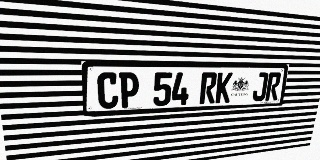4: (171, 72, 190, 105)
5: (153, 72, 172, 106)
C: (97, 72, 118, 109)
J: (252, 72, 269, 101)
K: (215, 72, 233, 103)
P: (119, 72, 139, 108)
R: (199, 72, 217, 104), (265, 72, 282, 101)
